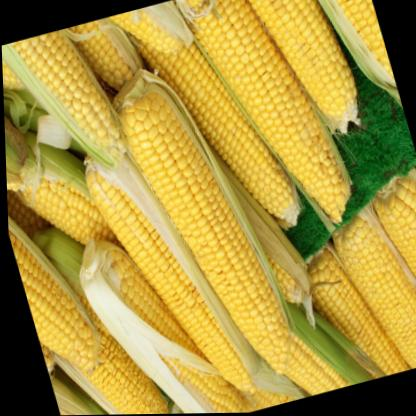---: (93, 46, 311, 411), (111, 0, 321, 267), (74, 124, 265, 415), (177, 0, 377, 252), (4, 145, 119, 390), (282, 223, 416, 393), (230, 0, 371, 148), (322, 193, 416, 380), (363, 168, 416, 369), (314, 0, 402, 120)
